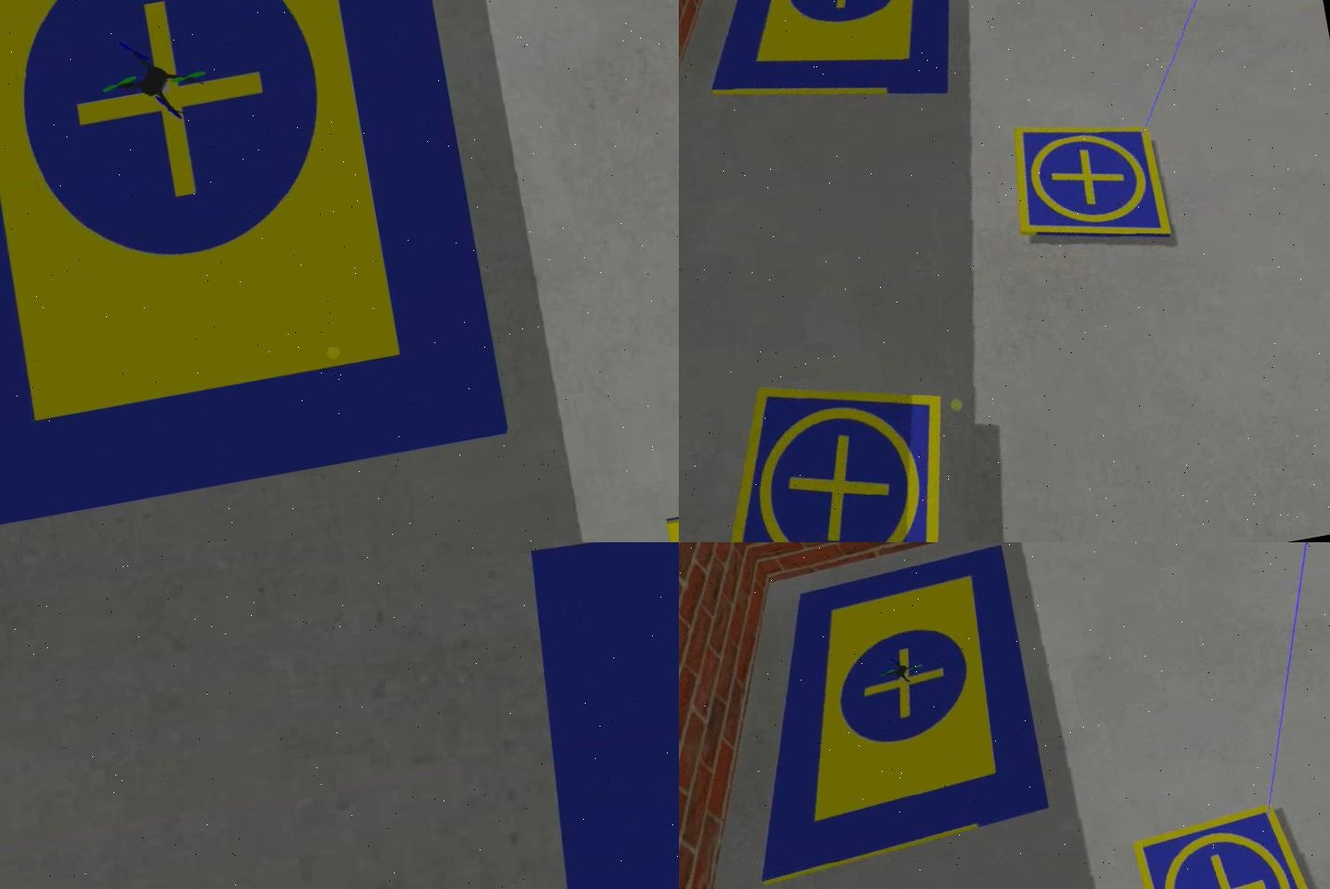large_base: (0, 1, 513, 530), (707, 542, 1055, 887), (473, 542, 678, 889), (684, 1, 985, 135)
small_base: (687, 360, 976, 542), (1003, 105, 1182, 262), (1129, 800, 1328, 889)
